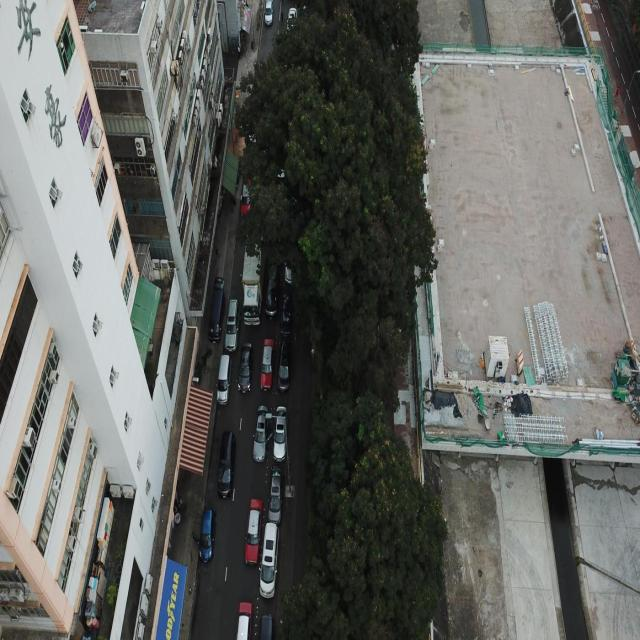car: (264, 0, 274, 26)
tree: (233, 0, 439, 411), (278, 386, 448, 638)
